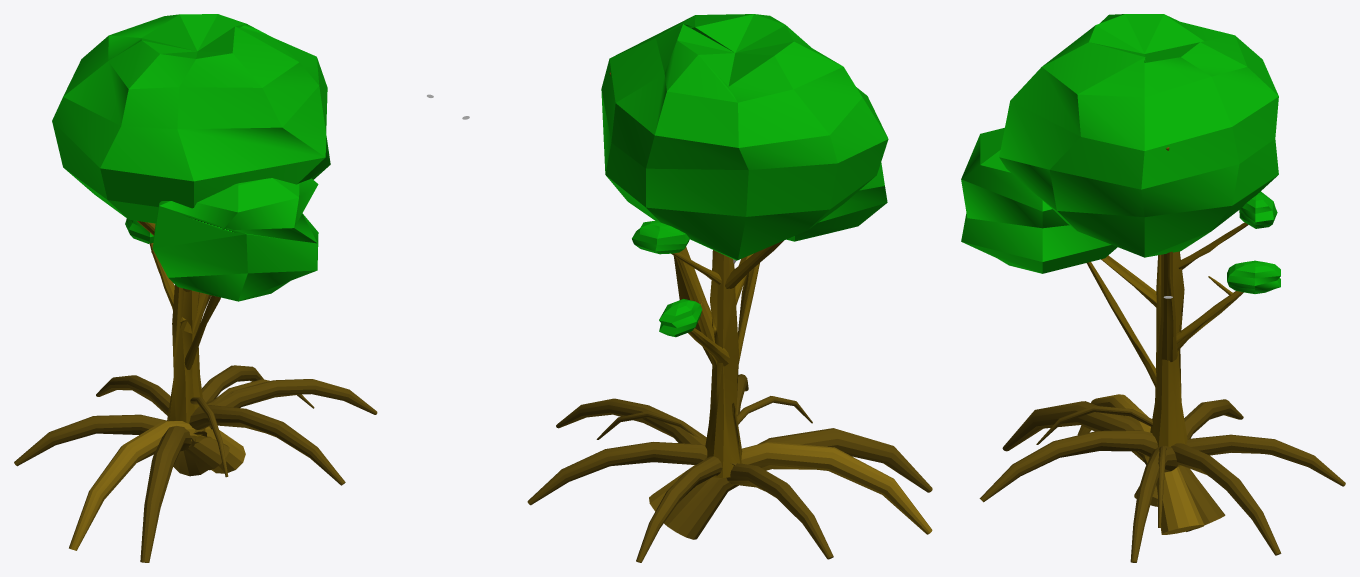
File: lowpolytree.fbx
3 renders of one model, left to right at view 1: azimuth 30°, elevation 25°; view 2: azimuth 150°, elevation 25°; view 3: azimuth 270°, elevation 25°, orthographic. The views are drawn at different scales.
Parts seen in each view (by area): view 1: pSphere2, pasted__pSphere1, pasted__pasted__pasted__pCylinder1 (×3), pasted__pCylinder1 (×2), pasted__pasted__pCylinder1 (×3), pasted__pasted__pasted__pasted__pCylinder1 (×2); view 2: pSphere2, pasted__pasted__pasted__pCylinder1 (×4), pasted__pasted__pCylinder1 (×5), pasted__pCylinder1 (×2), pasted__pSphere1 (×2), pSphere1, pasted__pasted__pasted__pasted__pCylinder1; view 3: pSphere2, pasted__pSphere1 (×2), pasted__pasted__pasted__pCylinder1 (×5), pasted__pasted__pCylinder1 (×5), pasted__pCylinder1 (×2), pasted__pasted__pasted__pasted__pCylinder1 (×2), pSphere1.
Boxes of the visible parts, bbox=[...] form: pSphere2: bbox=[52, 14, 330, 223]; pasted__pSphere1: bbox=[152, 178, 318, 301]; pasted__pasted__pasted__pCylinder1 (×3): bbox=[140, 365, 377, 562]; pasted__pCylinder1 (×2): bbox=[14, 284, 229, 470]; pasted__pasted__pCylinder1 (×3): bbox=[69, 295, 245, 550]; pasted__pasted__pasted__pasted__pCylinder1 (×2): bbox=[167, 397, 345, 485]; pSphere2: bbox=[601, 14, 888, 260]; pasted__pasted__pasted__pCylinder1 (×4): bbox=[527, 398, 932, 539]; pasted__pasted__pCylinder1 (×5): bbox=[609, 72, 932, 562]; pasted__pCylinder1 (×2): bbox=[705, 250, 833, 559]; pasted__pSphere1 (×2): bbox=[632, 162, 887, 254]; pSphere1: bbox=[659, 299, 702, 337]; pasted__pasted__pasted__pasted__pCylinder1: bbox=[705, 396, 812, 459]; pSphere2: bbox=[999, 14, 1278, 257]; pasted__pSphere1 (×2): bbox=[961, 127, 1277, 273]; pasted__pasted__pasted__pCylinder1 (×5): bbox=[1002, 222, 1281, 562]; pasted__pasted__pCylinder1 (×5): bbox=[1077, 147, 1345, 534]; pasted__pCylinder1 (×2): bbox=[1134, 251, 1243, 506]; pasted__pasted__pasted__pasted__pCylinder1 (×2): bbox=[979, 405, 1157, 502]; pSphere1: bbox=[1227, 260, 1280, 293].
Bounding box in the file's own units: 13.05 × 14.21 × 10.26.
